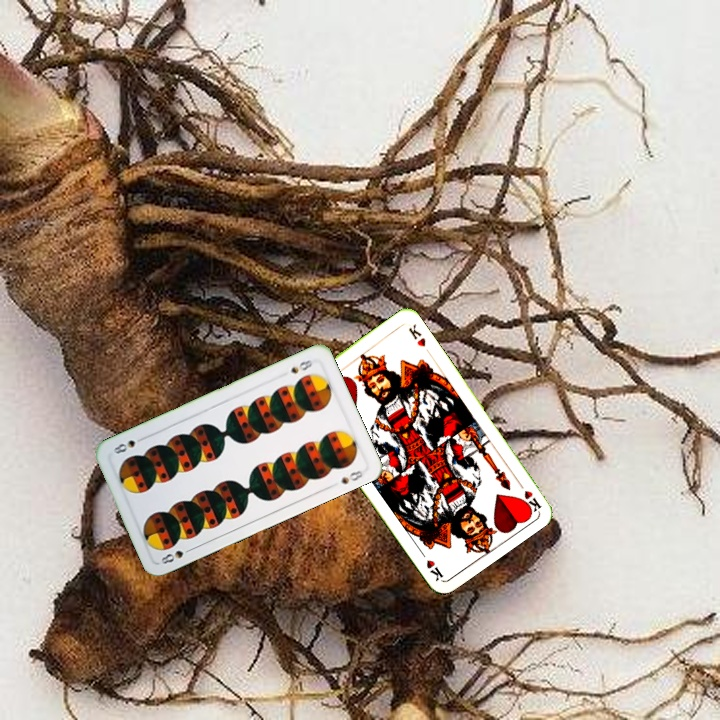HK: (513, 476, 544, 514)
S8: (157, 544, 196, 568), (287, 355, 315, 376)
